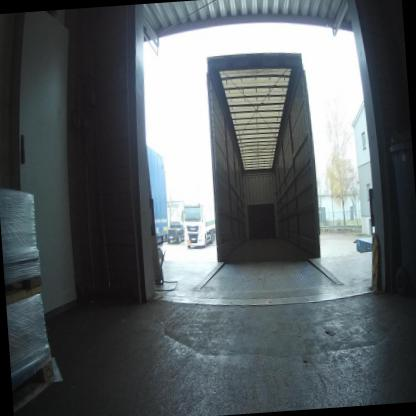pallet: (10, 357, 57, 415), (4, 271, 43, 307)
